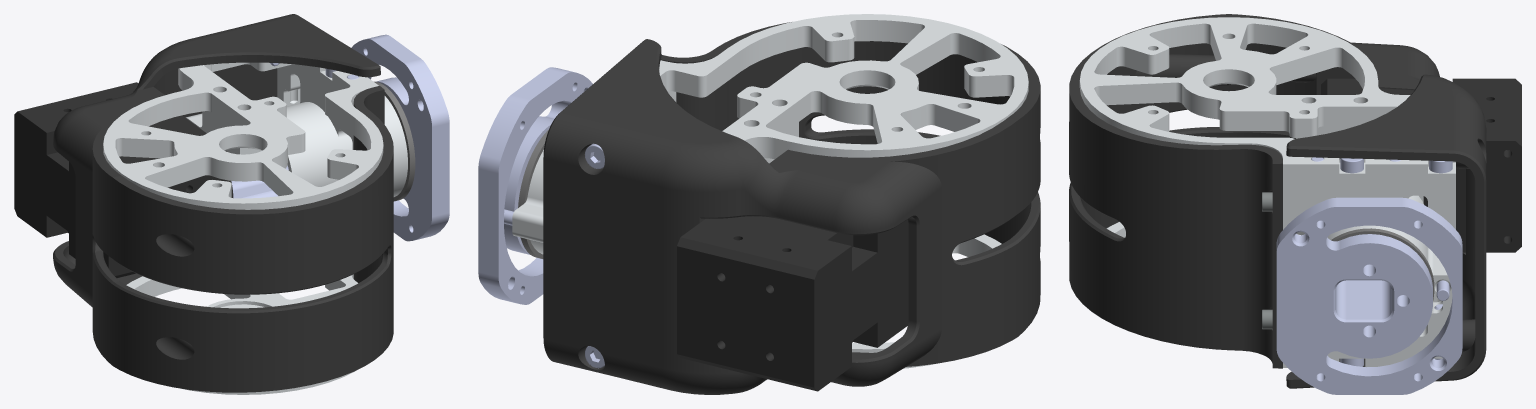
Rendered from elbow_link.dae.
The picture shows the model from 3 angles, left to right: view 1: azimuth 30°, elevation 25°; view 2: azimuth 150°, elevation 25°; view 3: azimuth 270°, elevation 25°; orthographic projection. The views are drawn at different scales.
Parts seen in each view (by area): view 1: Body_23, Body_5, Body_20, Body_7, Body_1, Body_4, _3DGeom-398, Body_24, Body_3; view 2: Body_20, Body_1, Body_5, Body_23, Body_7, Body_4, _3DGeom-398, Body_24; view 3: Body_23, Body_5, Body_7, Body_20, Body_1, Body_4, _3DGeom-398, Body_24.
Boxes of the visible parts, x1=… form: Body_23: x1=113, y1=85, x2=393, y2=392; Body_5: x1=103, y1=62, x2=383, y2=209; Body_20: x1=53, y1=14, x2=380, y2=365; Body_7: x1=231, y1=34, x2=449, y2=241; Body_1: x1=14, y1=82, x2=228, y2=277; Body_4: x1=277, y1=64, x2=407, y2=196; _3DGeom-398: x1=126, y1=274, x2=357, y2=394; Body_24: x1=374, y1=81, x2=415, y2=201; Body_3: x1=185, y1=111, x2=260, y2=154; Body_20: x1=543, y1=39, x2=1017, y2=394; Body_1: x1=677, y1=216, x2=908, y2=391; Body_5: x1=659, y1=14, x2=1028, y2=159; Body_23: x1=661, y1=22, x2=1040, y2=336; Body_7: x1=478, y1=67, x2=592, y2=304; Body_4: x1=512, y1=91, x2=676, y2=254; _3DGeom-398: x1=852, y1=234, x2=1001, y2=368; Body_24: x1=518, y1=129, x2=548, y2=258; Body_23: x1=1069, y1=14, x2=1282, y2=368; Body_5: x1=1079, y1=17, x2=1455, y2=183; Body_7: x1=1276, y1=197, x2=1462, y2=394; Body_20: x1=1229, y1=14, x2=1486, y2=388; Body_1: x1=1321, y1=78, x2=1521, y2=252; Body_4: x1=1283, y1=184, x2=1455, y2=348; _3DGeom-398: x1=1106, y1=222, x2=1442, y2=367; Body_24: x1=1331, y1=228, x2=1434, y2=300.
Bounding box in the file's own units: 0.1021 × 0.1047 × 0.062.
